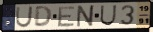3: (120, 4, 136, 26)
D: (33, 5, 54, 29)
E: (57, 5, 76, 28)
N: (75, 4, 97, 28)
U: (14, 6, 34, 29), (99, 5, 118, 27)
